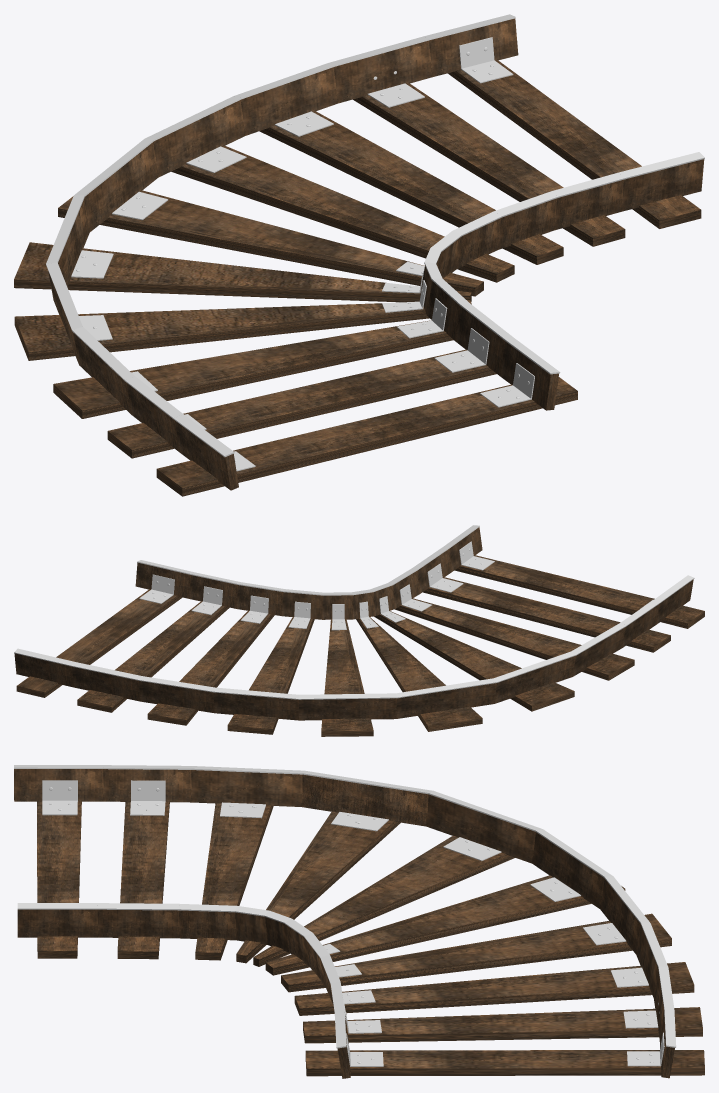
File: Rails_courbe.fbx
3 renders of one model, top to bottom at view 1: azimuth 30°, elevation 25°; view 2: azimuth 150°, elevation 25°; view 3: azimuth 270°, elevation 25°, orthographic. The views are drawn at different scales.
Visible parts, largest first — view 1: Cube.001; view 2: Cube.001; view 3: Cube.001.
Part boxes in pixels (left/top/right/bottom): Cube.001: left=14, top=14, right=704, bottom=496; Cube.001: left=14, top=525, right=704, bottom=736; Cube.001: left=14, top=765, right=704, bottom=1078.
Size of the model in its own units: 833 by 52.7 by 823.
Materials: 2 (1 with a texture image).
